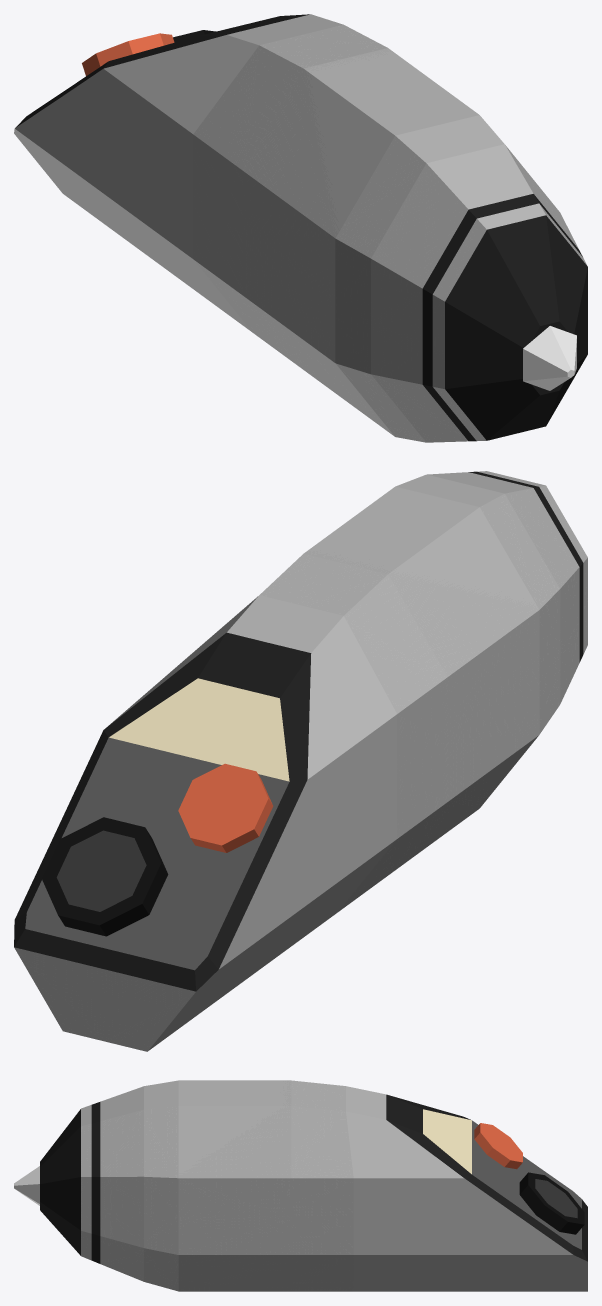
Rendered from pen.glb.
The picture shows the model from 3 angles, top to bottom: view 1: azimuth 30°, elevation 25°; view 2: azimuth 150°, elevation 25°; view 3: azimuth 270°, elevation 25°; orthographic projection. The views are drawn at different scales.
Visible parts, largest first — view 1: pen, tip, button; view 2: pen, stick, color_indicator, button; view 3: pen, stick, color_indicator, button, tip.
Boxes of the visible parts, left/top/right/bottom form: pen: left=14, top=14, right=587, bottom=442; tip: left=523, top=326, right=576, bottom=390; button: left=82, top=33, right=174, bottom=75; pen: left=14, top=471, right=587, bottom=1051; stick: left=42, top=817, right=168, bottom=936; color_indicator: left=109, top=678, right=289, bottom=781; button: left=178, top=763, right=273, bottom=852; pen: left=40, top=1080, right=587, bottom=1291; stick: left=519, top=1172, right=584, bottom=1234; color_indicator: left=423, top=1109, right=471, bottom=1174; button: left=474, top=1123, right=522, bottom=1169; tip: left=14, top=1166, right=39, bottom=1205.
Size of the model in its own units: 0.0299 by 0.0422 by 0.1183.
Materials: 1 (1 with a texture image).
